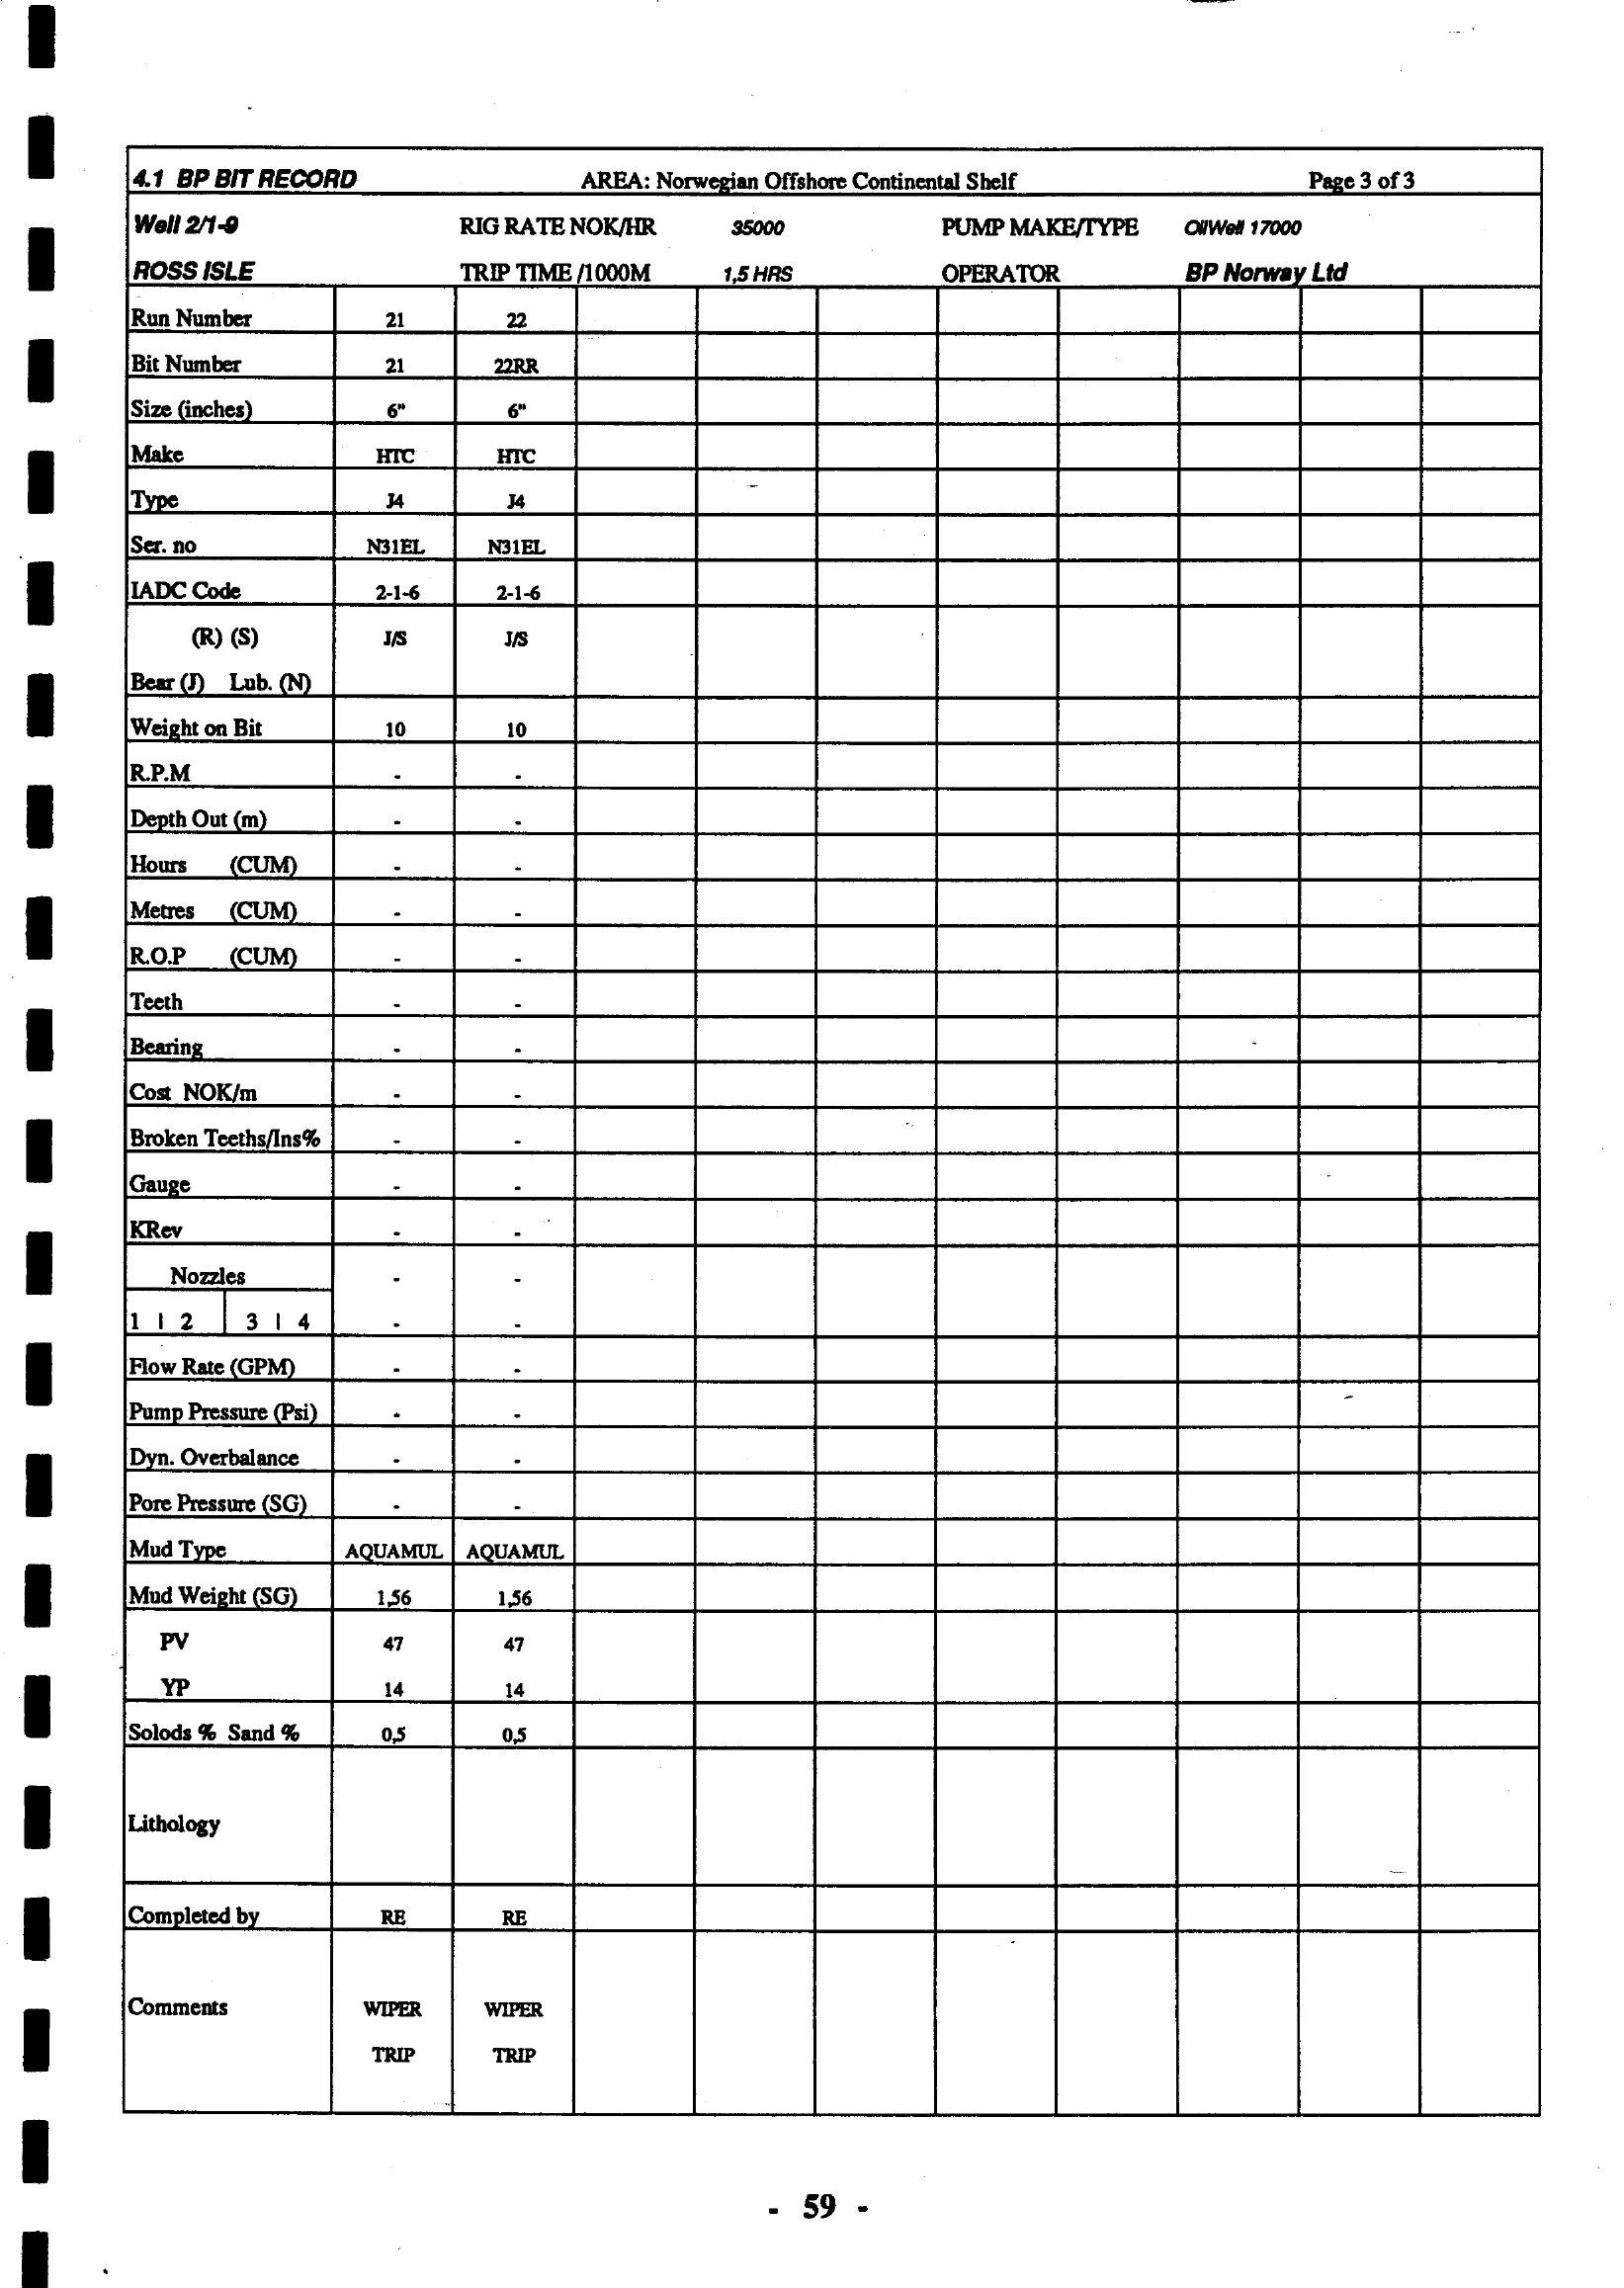table: (83, 121, 1575, 2144)
